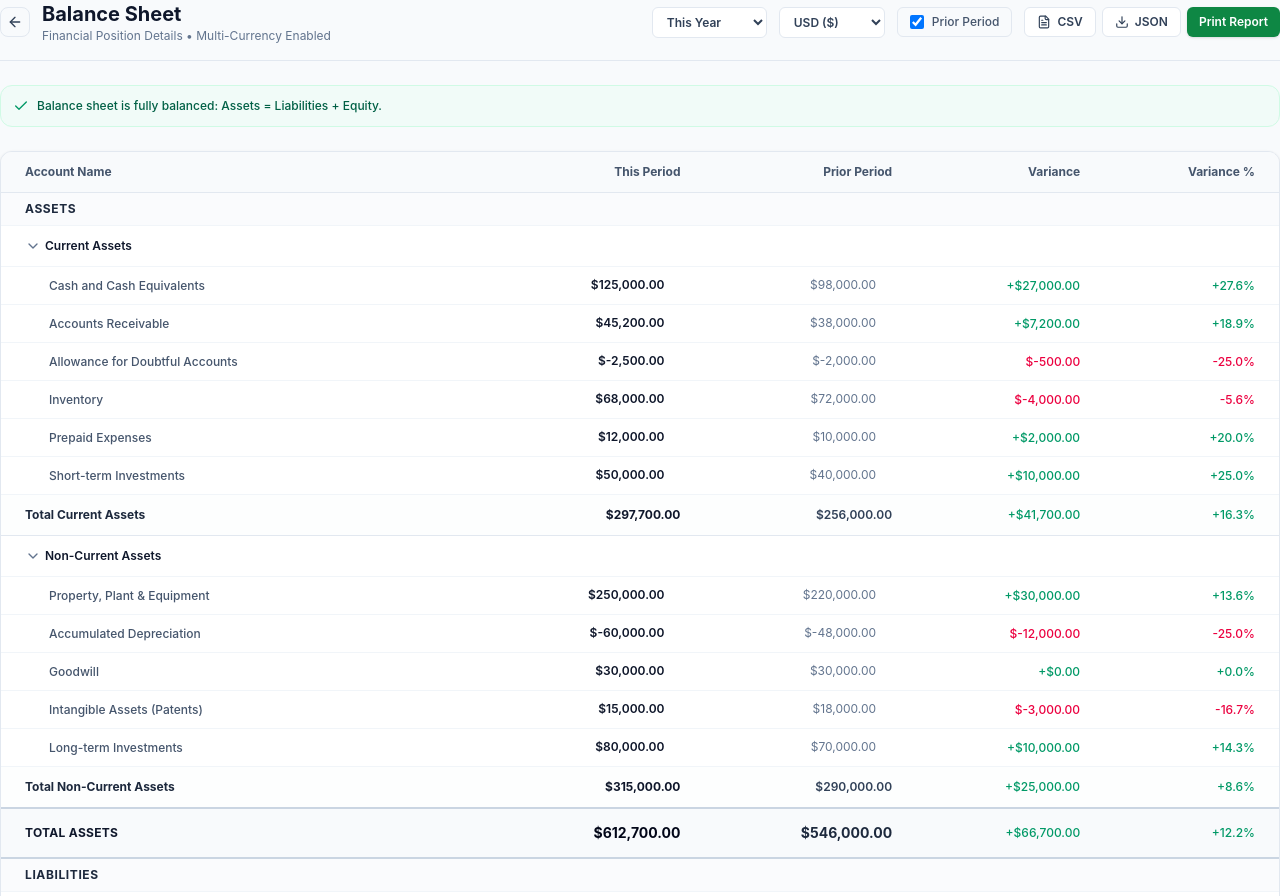
BalanceSheet Component › auto-balances the sheet when out of balance using Retained Earnings
Click the button "$125,000.00" at (636, 286), box [591,277,680,294]
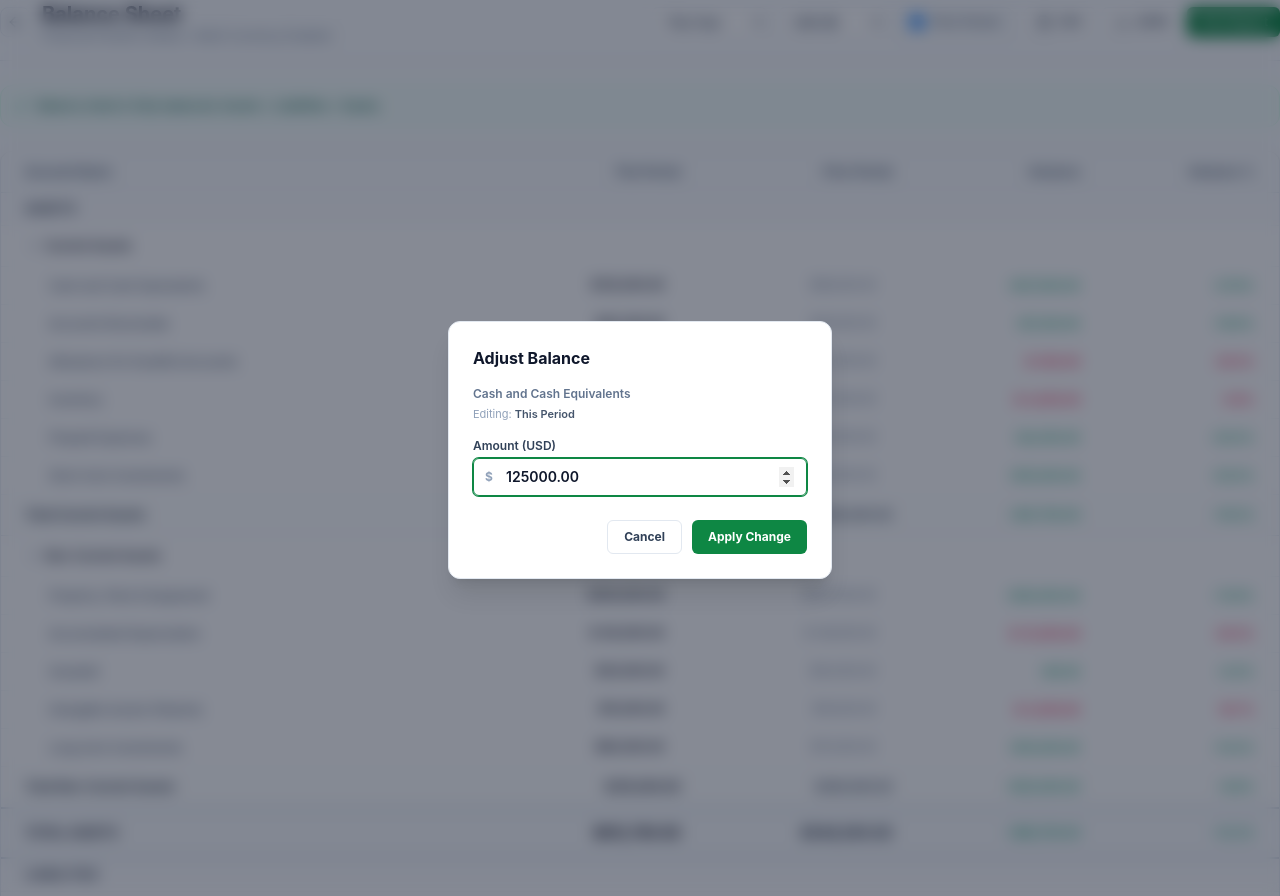
Replace the text in the number field labelled "Amount (USD)" with "150000" at (640, 477), box [473,458,807,496]
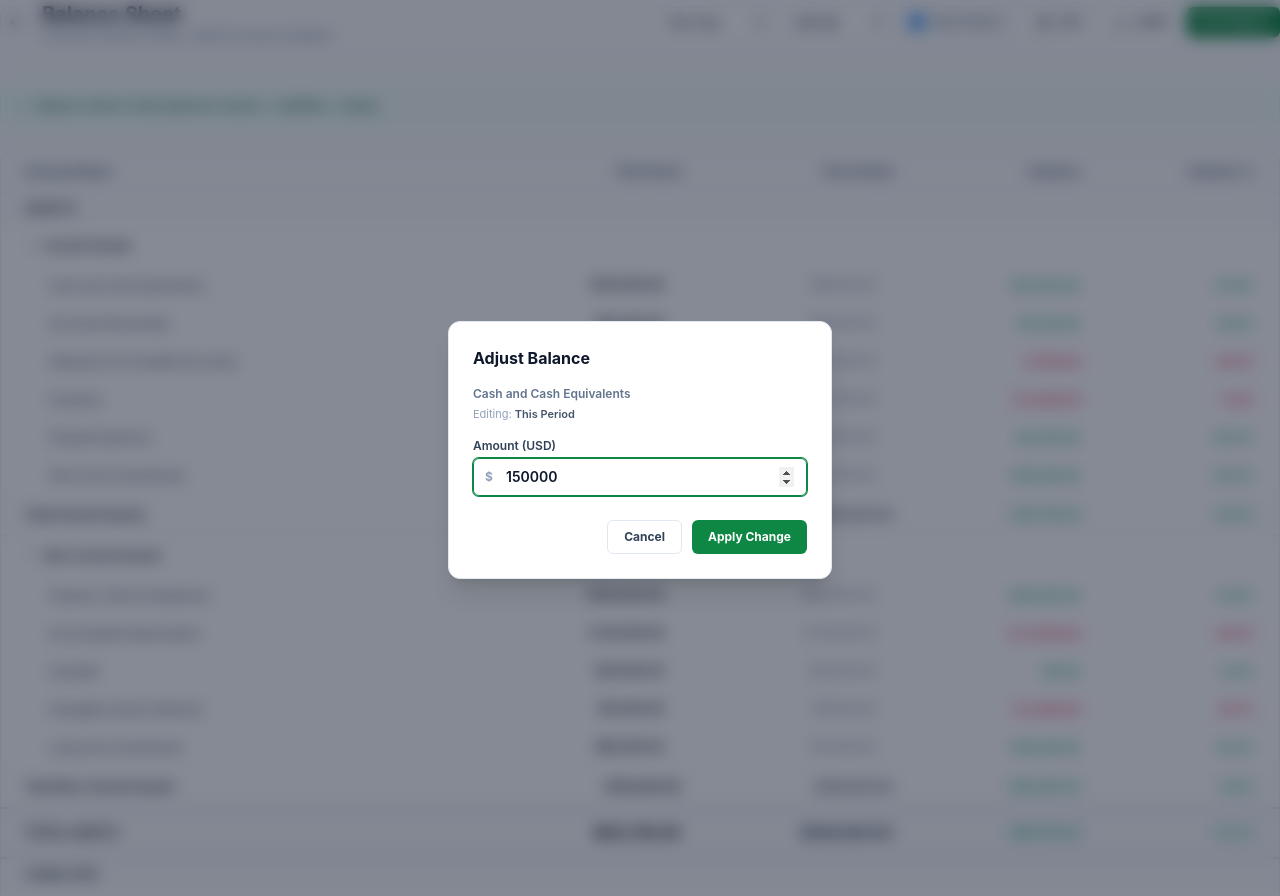
Click the button "Apply Change" at (750, 537), box [692,520,807,554]
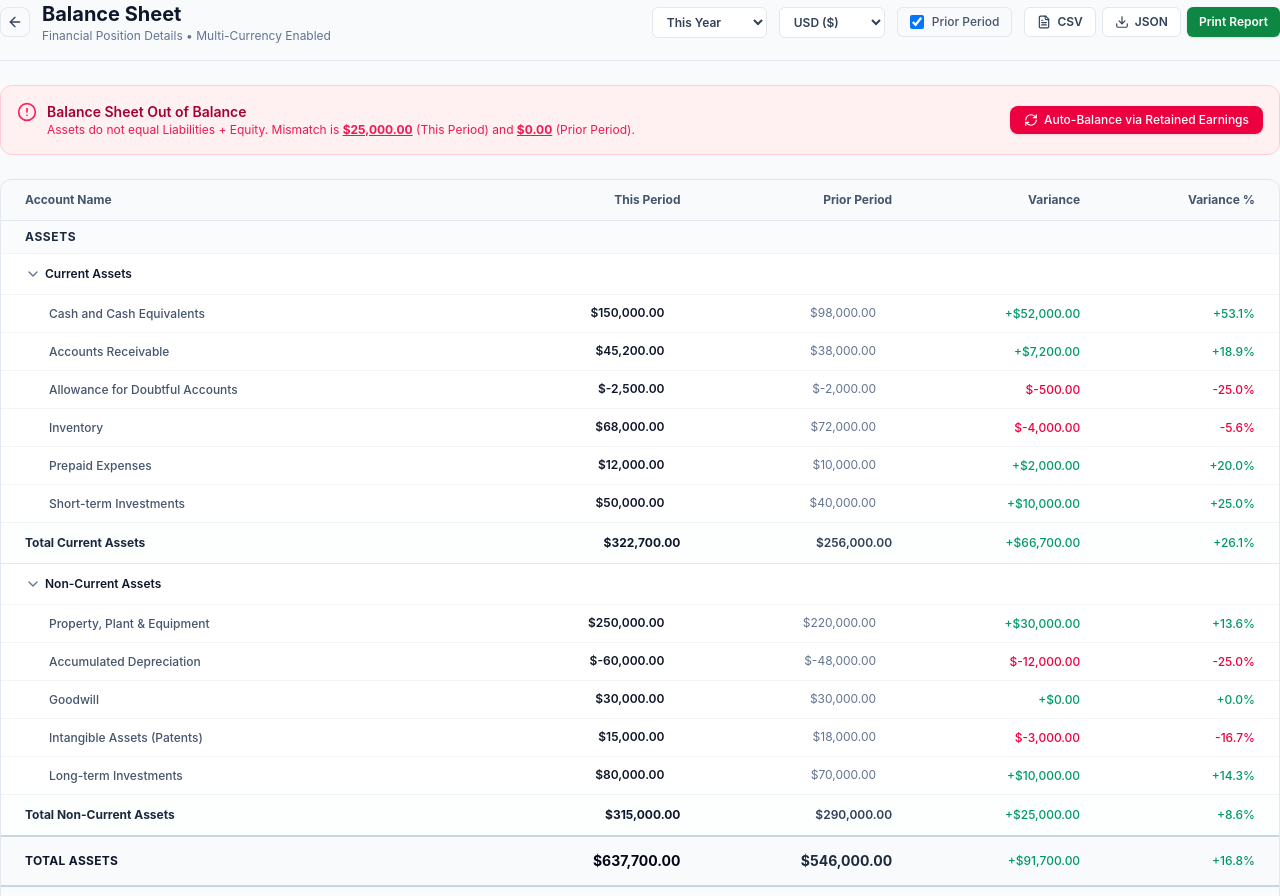
// Click Auto-Balance
Click the button "Auto-Balance via Retained Earnings" at (1136, 120), box [1010,106,1263,134]
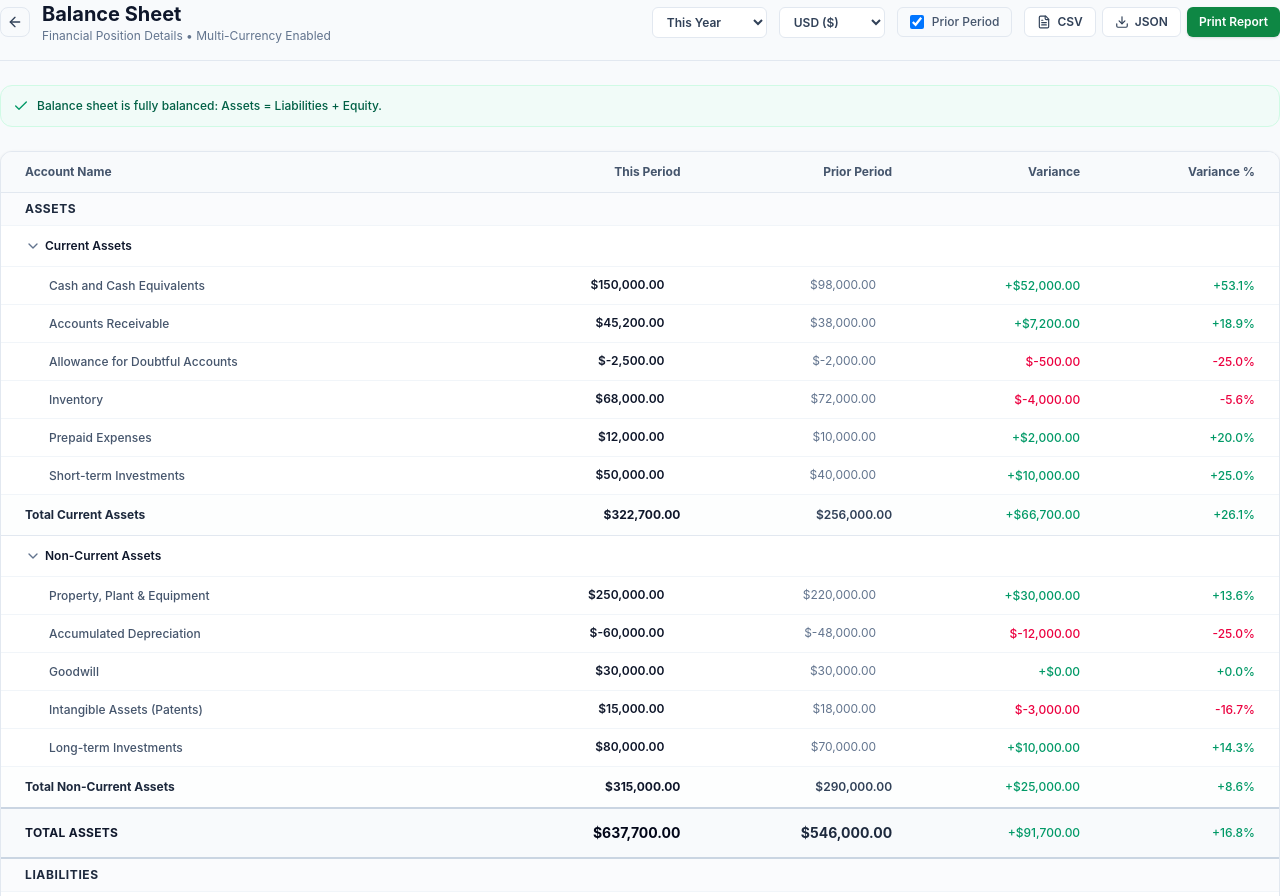
expect the text "Balance sheet is fully balanced" is shown: met, box [37,98,382,113]
expect the element with test id "imbalance-banner" is gone: met
